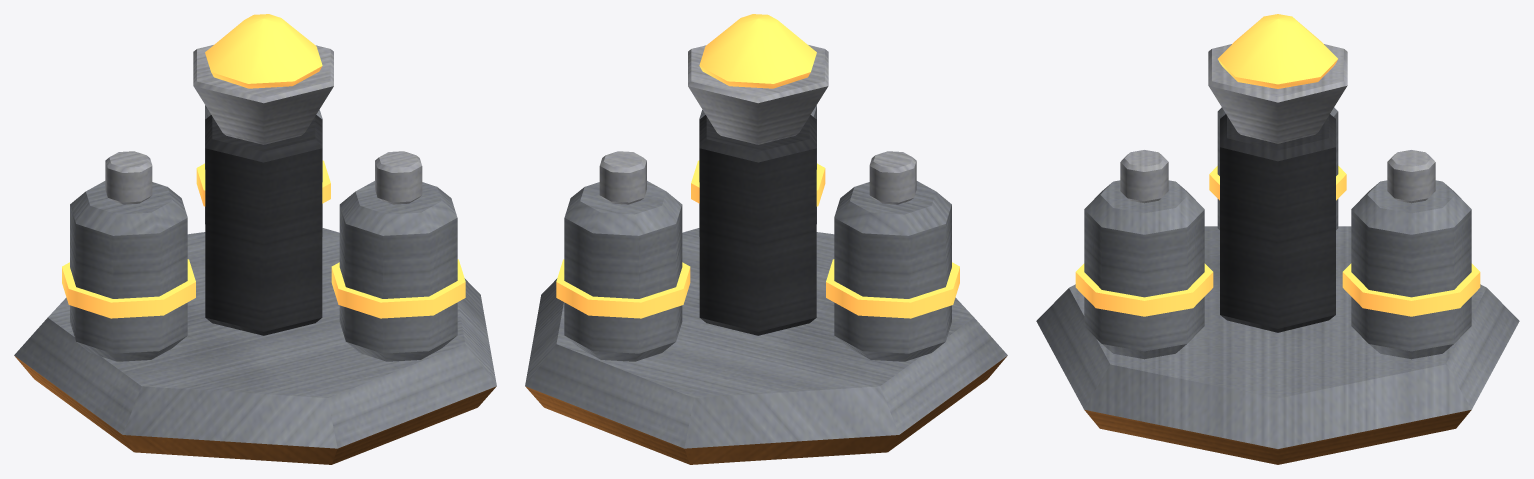
File: R4D_BurnTrap_LOD1.glb
3 renders of one model, left to right at view 1: azimuth 30°, elevation 25°; view 2: azimuth 150°, elevation 25°; view 3: azimuth 270°, elevation 25°, orthographic.
Parts seen in each view (by area): view 1: R4D_BurnTrap_LOD1; view 2: R4D_BurnTrap_LOD1; view 3: R4D_BurnTrap_LOD1.
Boxes of the visible parts, x1,y1,x2,y2 form: R4D_BurnTrap_LOD1: [14, 14, 496, 464]; R4D_BurnTrap_LOD1: [525, 14, 1007, 464]; R4D_BurnTrap_LOD1: [1036, 14, 1519, 464].
Size of the model in its own units: 0.3517 by 0.288 by 0.3607.
5 materials, 4 textured.
